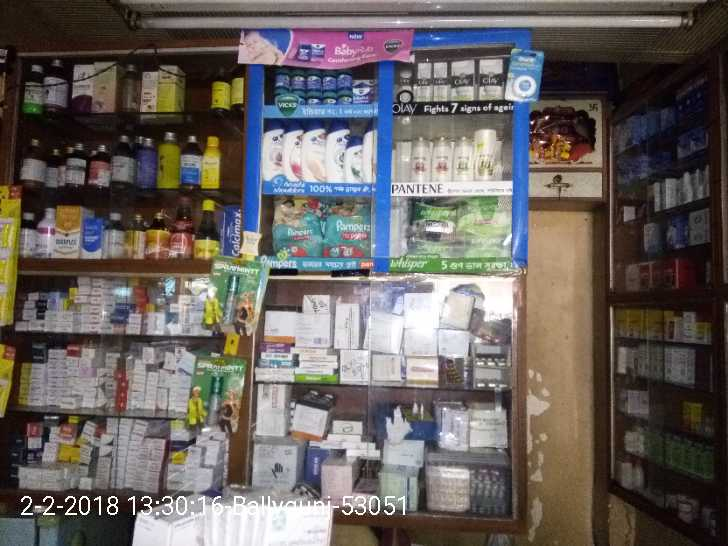vicks: (269, 66, 380, 109)
